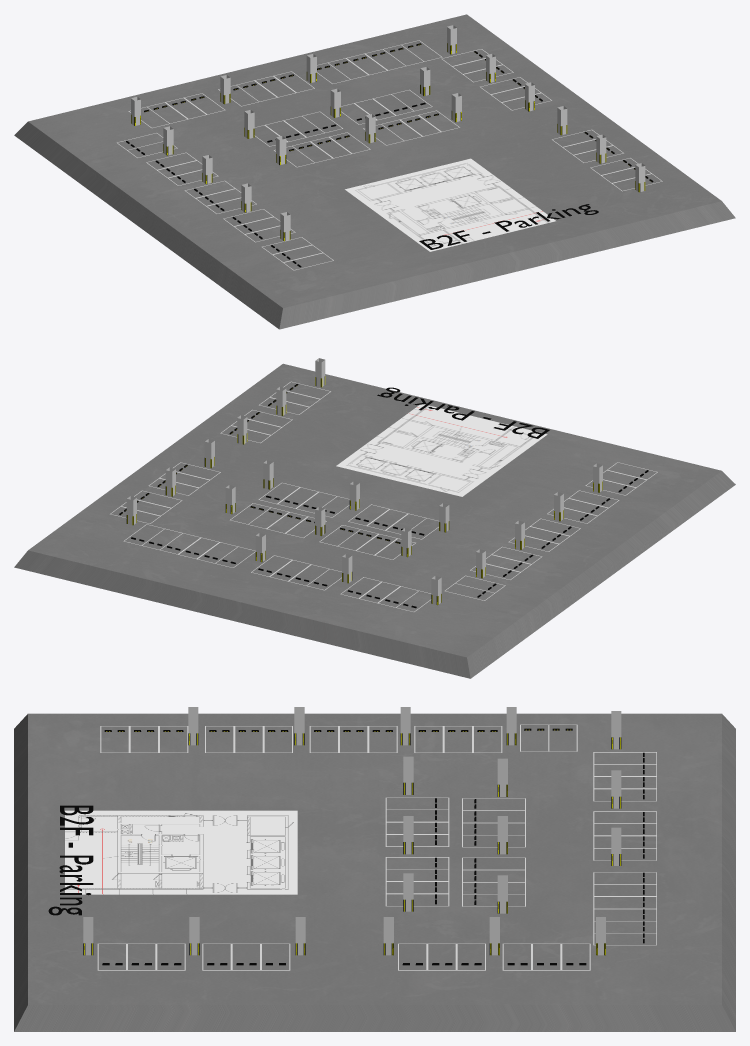
Rendered from 20240530_idis_b2_parking.glb.
3 views of the same model, one above another, from view 1: azimuth 30°, elevation 25°; view 2: azimuth 150°, elevation 25°; view 3: azimuth 270°, elevation 25° (orthographic). The views are drawn at different scales.
Visible parts, largest first — view 1: 평면, b2f, BL|맨홀_curve_.004, area_car1, BL|맨홀_curve_.005, BL|맨홀_curve_.003, 텍스트.001, BL|맨홀_curve_.009, BL|맨홀_curve_.011, BL|맨홀_curve_.007, area_car1.001, area_car1.002; view 2: 평면, b2f, area_car1, BL|맨홀_curve_.004, BL|맨홀_curve_.005, BL|맨홀_curve_.003, 텍스트.001, BL|맨홀_curve_.007, BL|맨홀_curve_.011, BL|맨홀_curve_.009, area_car1.002, area_car1.001; view 3: 평면, b2f, area_car1, BL|맨홀_curve_.004, 텍스트.001, BL|맨홀_curve_.005, BL|맨홀_curve_.003, area_car1.002, area_car1.001, BL|맨홀_curve_.007, BL|맨홀_curve_.011, BL|맨홀_curve_.009 (+7 smaller).
Boxes of the visible parts, x1=… form: 평면: x1=14, y1=14, x2=735, y2=329; b2f: x1=345, y1=158, x2=555, y2=251; BL|맨홀_curve_.004: x1=163, y1=126, x2=290, y2=241; area_car1: x1=146, y1=152, x2=333, y2=270; BL|맨홀_curve_.005: x1=557, y1=106, x2=645, y2=192; BL|맨홀_curve_.003: x1=447, y1=25, x2=534, y2=111; 텍스트.001: x1=419, y1=204, x2=598, y2=249; BL|맨홀_curve_.009: x1=244, y1=88, x2=340, y2=138; BL|맨홀_curve_.011: x1=220, y1=54, x2=316, y2=104; BL|맨홀_curve_.007: x1=365, y1=93, x2=461, y2=143; area_car1.001: x1=441, y1=49, x2=551, y2=110; area_car1.002: x1=552, y1=129, x2=662, y2=191; 평면: x1=14, y1=363, x2=735, y2=678; b2f: x1=336, y1=404, x2=547, y2=496; area_car1: x1=470, y1=462, x2=657, y2=579; BL|맨홀_curve_.004: x1=476, y1=463, x2=602, y2=578; BL|맨홀_curve_.005: x1=237, y1=358, x2=325, y2=444; BL|맨홀_curve_.003: x1=126, y1=439, x2=214, y2=525; 텍스트.001: x1=377, y1=387, x2=549, y2=438; BL|맨홀_curve_.007: x1=263, y1=460, x2=359, y2=510; BL|맨홀_curve_.011: x1=255, y1=533, x2=352, y2=583; BL|맨홀_curve_.009: x1=315, y1=507, x2=411, y2=557; area_car1.002: x1=220, y1=381, x2=330, y2=443; area_car1.001: x1=110, y1=462, x2=220, y2=523; 평면: x1=14, y1=713, x2=735, y2=1031; b2f: x1=65, y1=810, x2=297, y2=894; area_car1: x1=100, y1=726, x2=502, y2=752; BL|맨홀_curve_.004: x1=188, y1=707, x2=516, y2=745; 텍스트.001: x1=48, y1=805, x2=93, y2=915; BL|맨홀_curve_.005: x1=83, y1=917, x2=305, y2=955; BL|맨홀_curve_.003: x1=383, y1=917, x2=605, y2=955; area_car1.002: x1=97, y1=943, x2=290, y2=970; area_car1.001: x1=398, y1=943, x2=590, y2=970; BL|맨홀_curve_.007: x1=403, y1=816, x2=413, y2=911; BL|맨홀_curve_.011: x1=611, y1=770, x2=621, y2=865; BL|맨홀_curve_.009: x1=497, y1=758, x2=507, y2=854.
Size of the model in its own units: 56.24 by 5.84 by 56.61.
8 materials, 3 textured.
